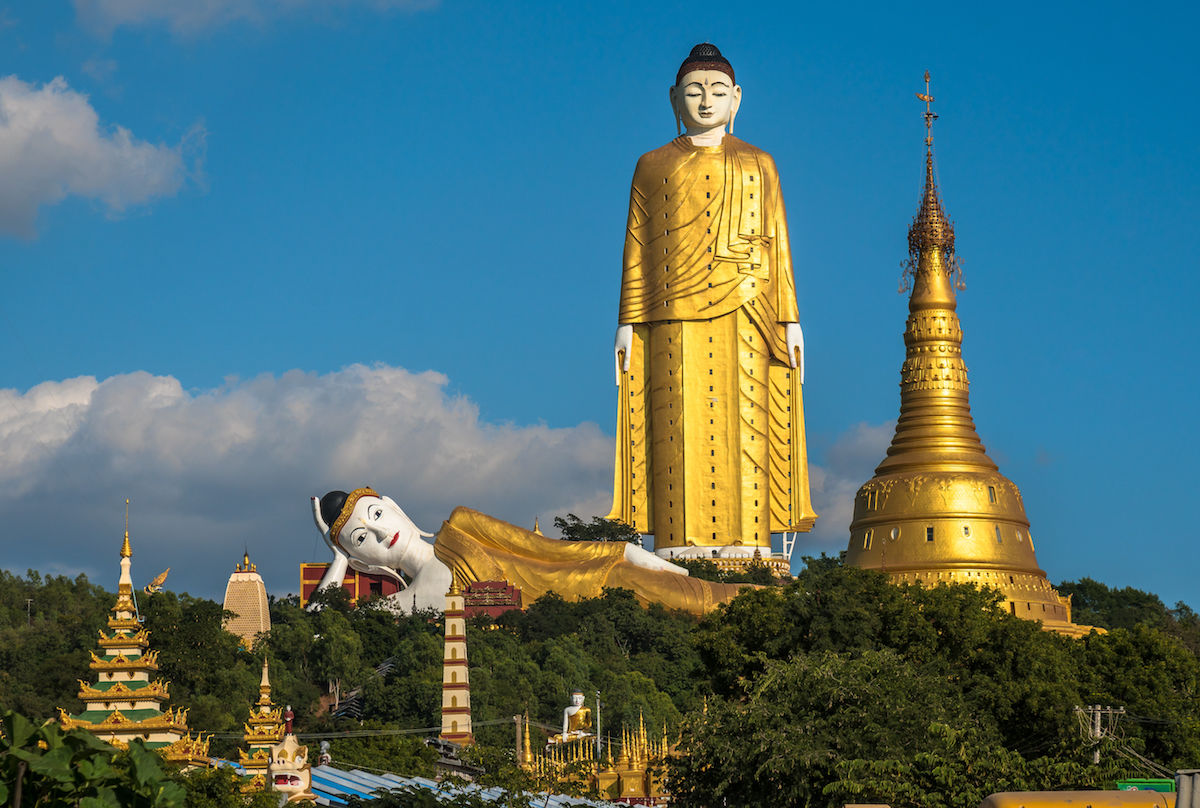person-like: (608, 38, 822, 577), (305, 483, 696, 606), (557, 688, 598, 744)
